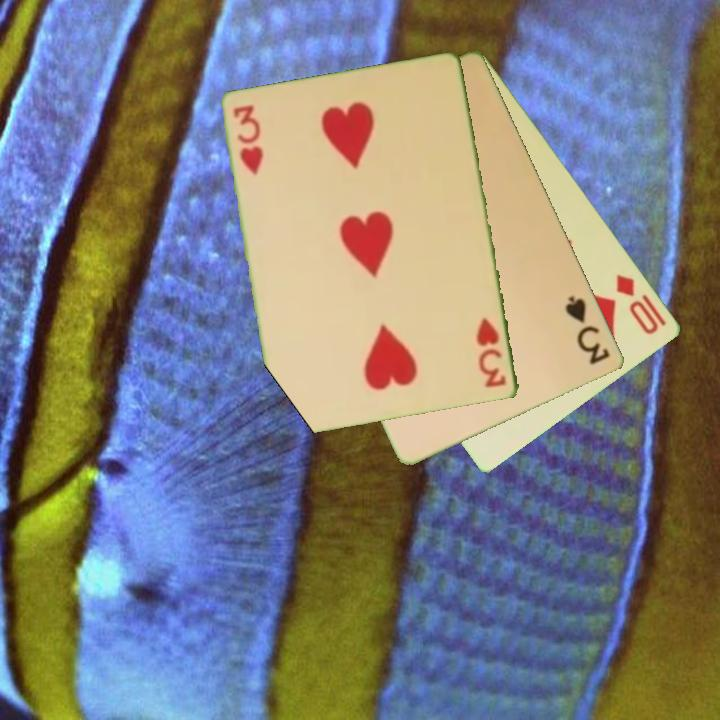10d: (613, 271, 662, 338)
3h: (473, 314, 510, 391), (230, 101, 266, 179)
3s: (562, 292, 614, 368)
